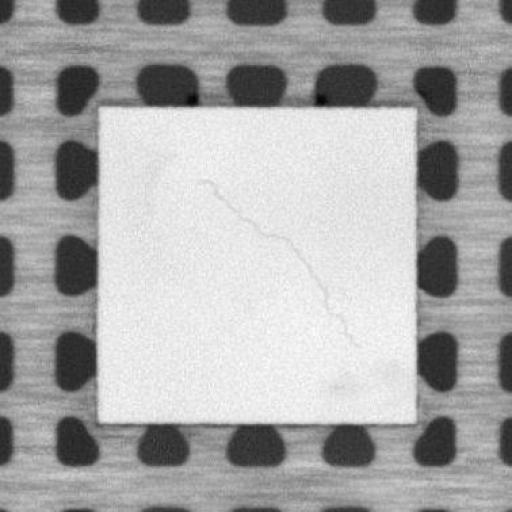DIE_CRACK: (204, 176, 354, 343)
